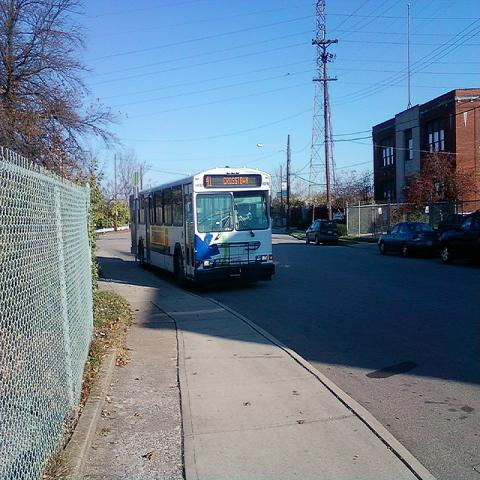bus: (130, 167, 273, 280)
car: (438, 210, 479, 268), (378, 222, 441, 259), (306, 219, 339, 246)
